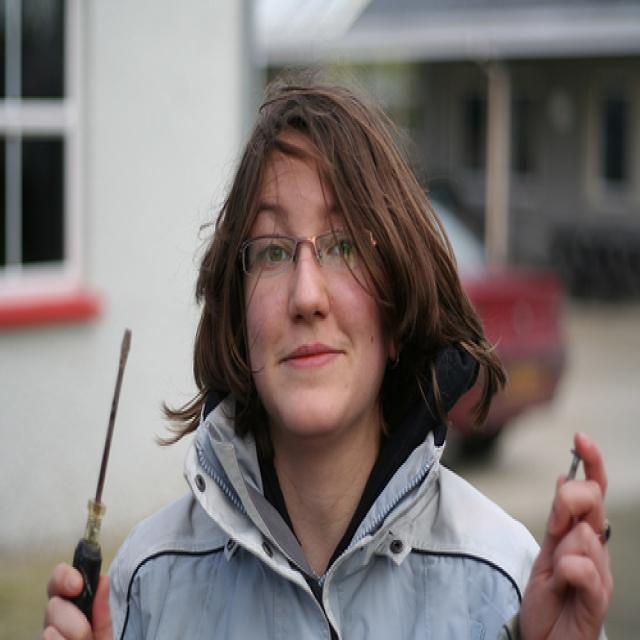screw_driver: (70, 329, 132, 623)
